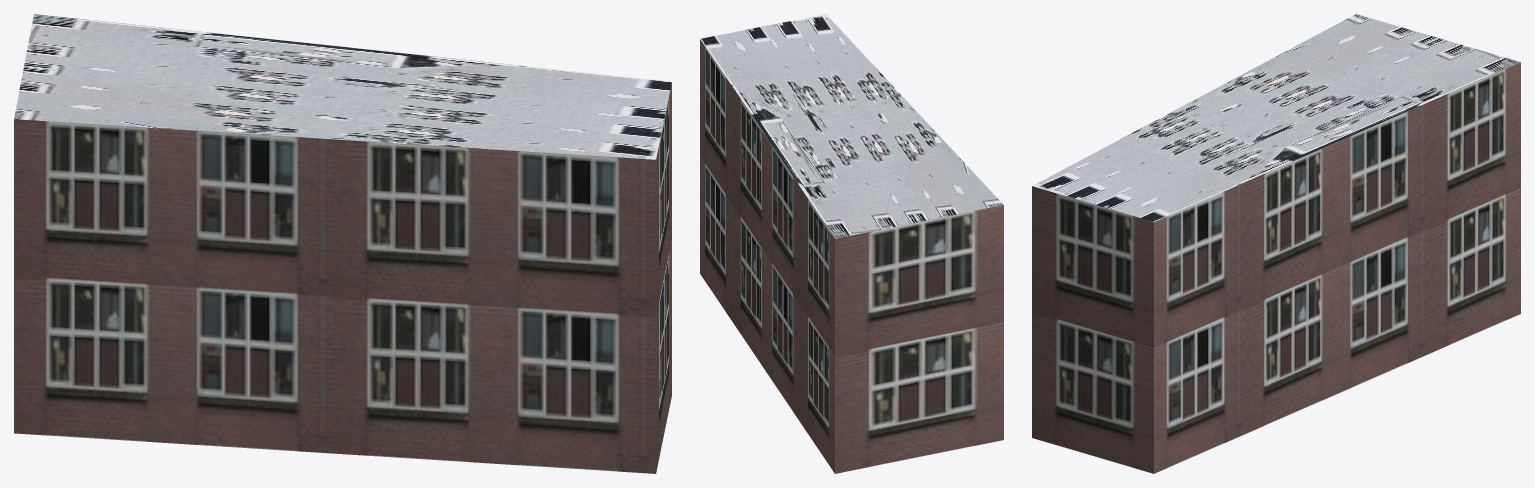
Rendered from ResTex__2933.fbx.
The picture shows the model from 3 angles, left to right: view 1: azimuth 30°, elevation 25°; view 2: azimuth 150°, elevation 25°; view 3: azimuth 270°, elevation 25°; orthographic projection. The views are drawn at different scales.
Visible parts, largest first — view 1: CityEngineMaterial_12_m, CityEngineMaterial_m; view 2: CityEngineMaterial_12_m, CityEngineMaterial_m; view 3: CityEngineMaterial_12_m, CityEngineMaterial_m.
Part boxes in pixels (bbox=[...]): CityEngineMaterial_12_m: bbox=[14, 82, 671, 473]; CityEngineMaterial_m: bbox=[14, 14, 671, 159]; CityEngineMaterial_12_m: bbox=[700, 39, 1003, 473]; CityEngineMaterial_m: bbox=[700, 14, 1003, 238]; CityEngineMaterial_12_m: bbox=[1032, 62, 1520, 473]; CityEngineMaterial_m: bbox=[1032, 14, 1520, 221].
Size of the model in its own units: 10.63 by 6 by 10.55.
Materials: 2 (2 with a texture image).
